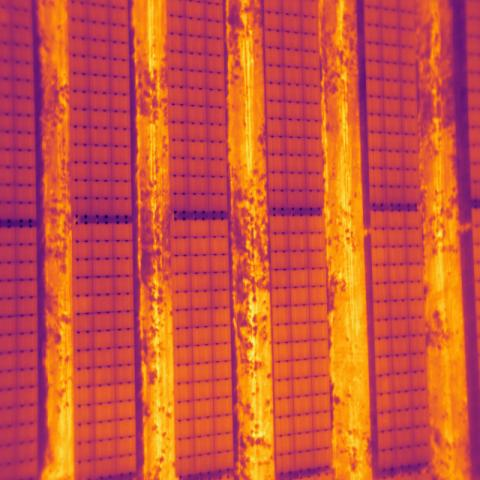fault: (73, 296, 91, 314)
